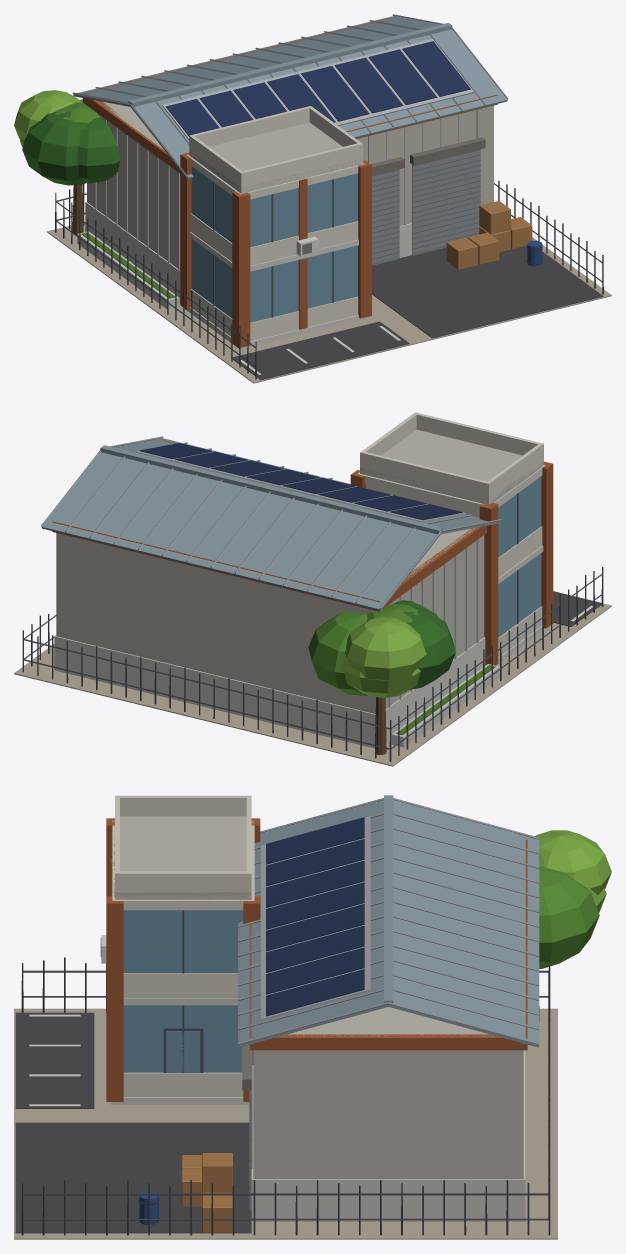
The model's file is factory_1.glb.
3 renders of one model, top to bottom at view 1: azimuth 30°, elevation 25°; view 2: azimuth 150°, elevation 25°; view 3: azimuth 270°, elevation 25°, orthographic. The views are drawn at different scales.
Visible parts, largest first — view 1: body; view 2: body; view 3: body.
Boxes of the visible parts, box(x1,y1,x2,y2) form: body: box(14, 14, 611, 383); body: box(14, 412, 611, 766); body: box(14, 795, 611, 1239).
Size of the model in its own units: 17.42 by 7.48 by 17.48.
